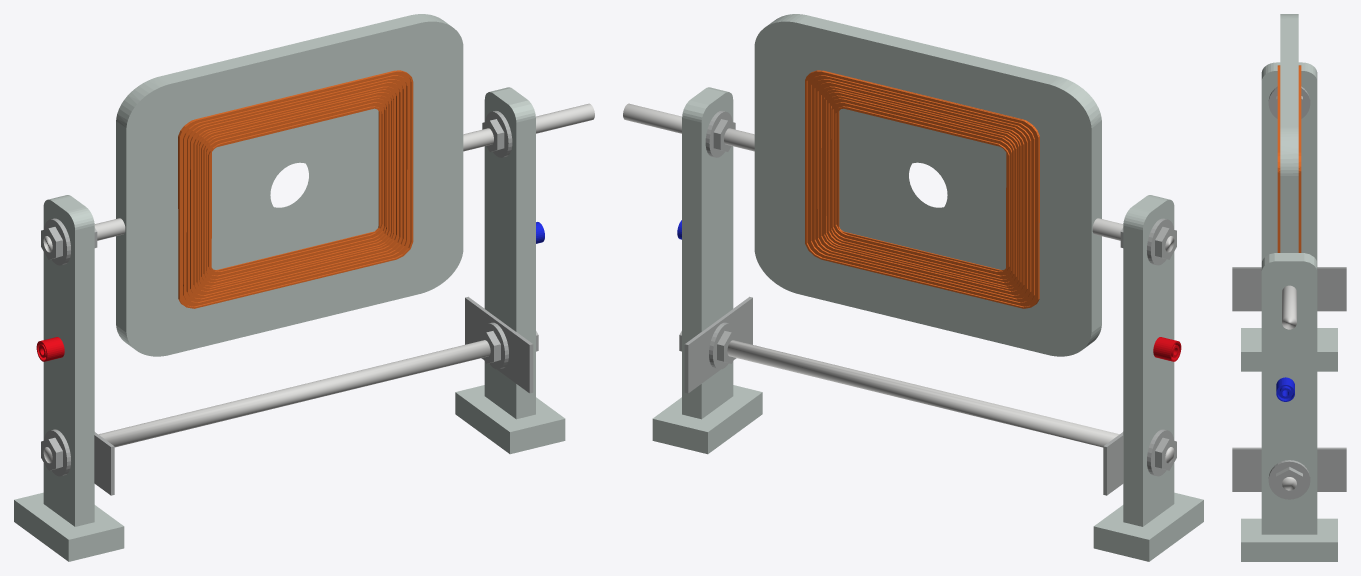
Rendered from coil.glb.
The picture shows the model from 3 angles, left to right: view 1: azimuth 30°, elevation 25°; view 2: azimuth 150°, elevation 25°; view 3: azimuth 270°, elevation 25°; orthographic projection. The views are drawn at different scales.
Parts seen in each view (by area): view 1: frame, stand, axis, handle; view 2: frame, stand, axis, handle; view 3: stand, frame, handle.
Boxes of the visible parts, x1,y1,x2,y2 form: frame: [116, 14, 463, 356]; stand: [14, 87, 565, 561]; axis: [43, 128, 493, 252]; handle: [536, 103, 594, 133]; frame: [754, 14, 1101, 356]; stand: [652, 87, 1203, 561]; axis: [724, 128, 1174, 252]; handle: [623, 103, 681, 133]; stand: [1232, 62, 1346, 561]; frame: [1277, 14, 1301, 252]; handle: [1282, 285, 1296, 329].
Size of the model in its own units: 62.59 by 46.98 by 12.79.
